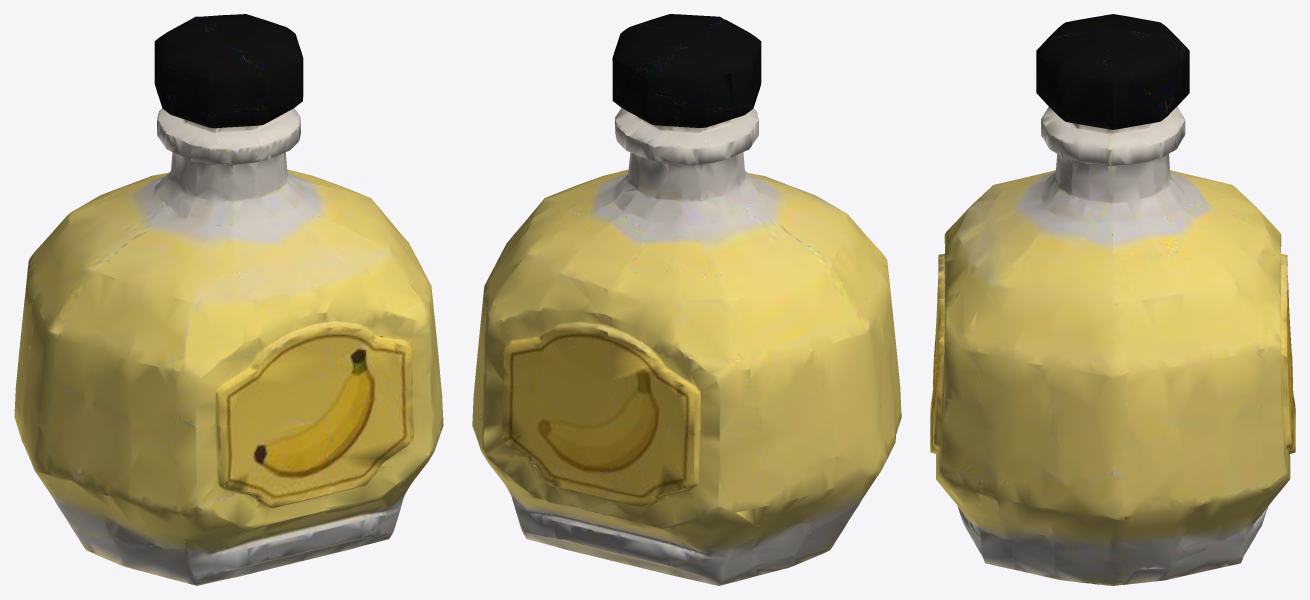
File: licorbananal_otimizado.glb
3 renders of one model, left to right at view 1: azimuth 30°, elevation 25°; view 2: azimuth 150°, elevation 25°; view 3: azimuth 270°, elevation 25°, orthographic.
Parts seen in each view (by area): view 1: Mesh_0; view 2: Mesh_0; view 3: Mesh_0.
Part boxes in pixels (left/top/right/bottom): Mesh_0: left=14, top=14, right=443, bottom=585; Mesh_0: left=472, top=14, right=901, bottom=585; Mesh_0: left=930, top=14, right=1295, bottom=585.
Size of the model in its own units: 1.61 by 1.9 by 1.31.
1 material, 1 textured.
